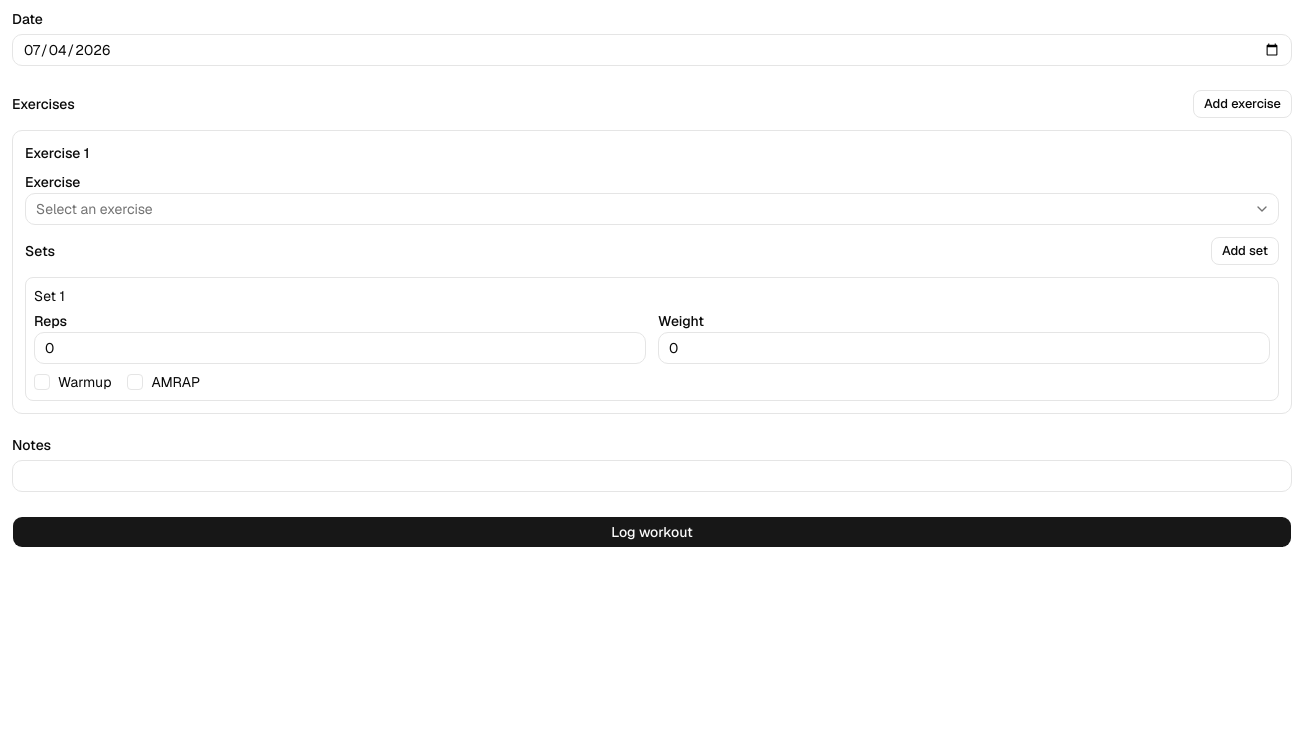
it: LogWorkoutForm › shows a validation error when submitting without an exercise selected
Click the button "Log workout": (652, 532) top-left (12, 516), bottom-right (1292, 548)
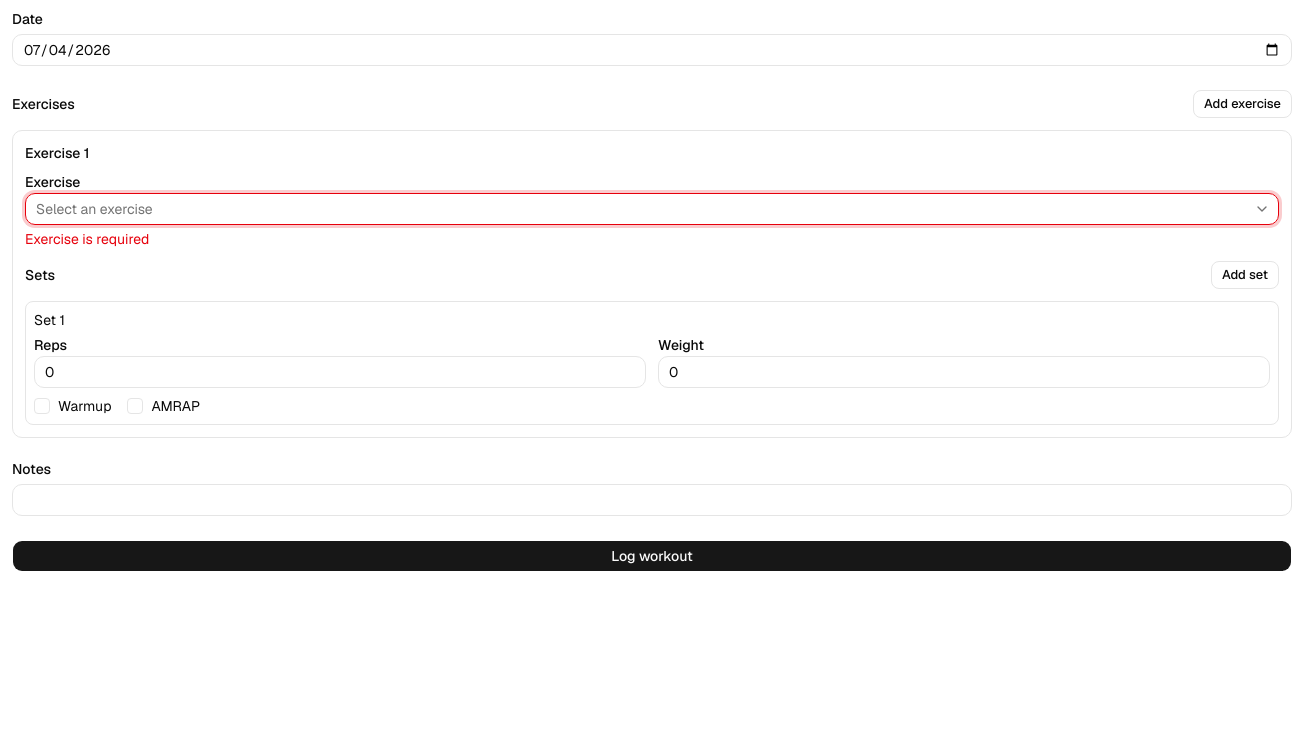
expect the text "Exercise is required" is shown: met, box top-left (25, 230), bottom-right (149, 248)
